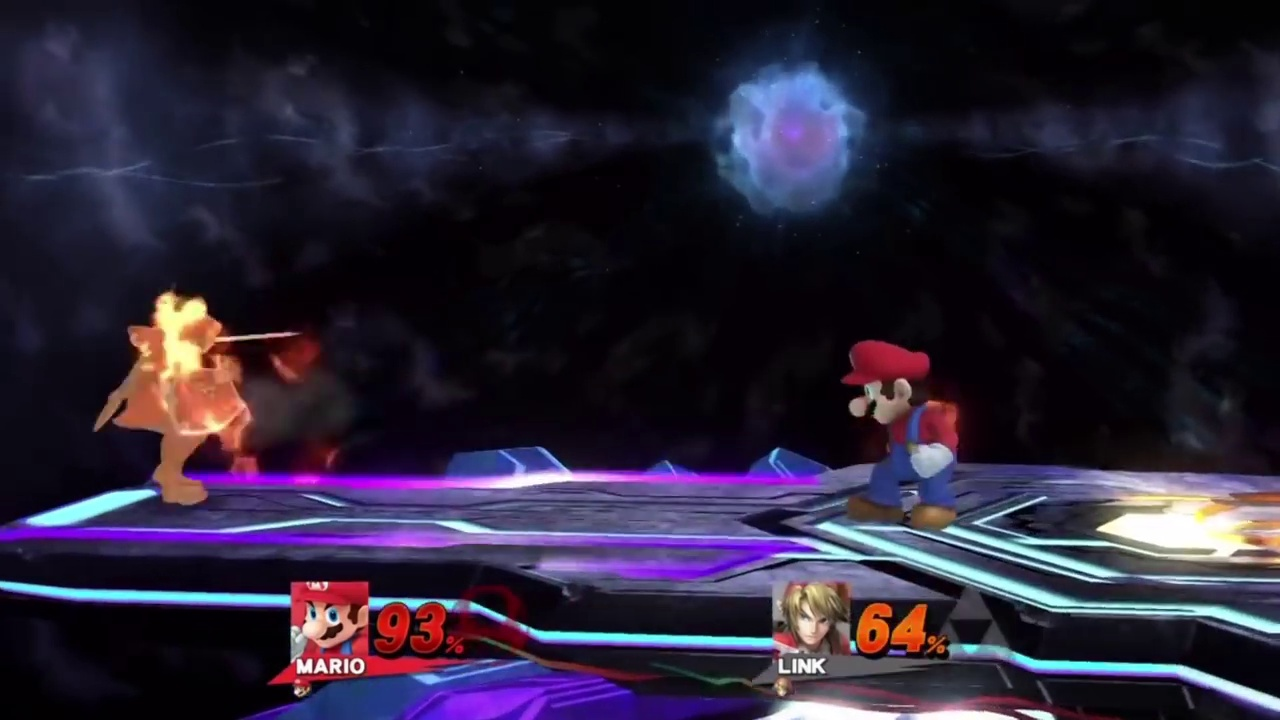Mario: (840, 341, 959, 526)
